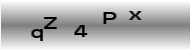4: (73, 24, 87, 37)
P: (101, 11, 117, 24)
Z: (42, 16, 58, 29)
q: (30, 27, 43, 41)
x: (127, 10, 143, 21)
